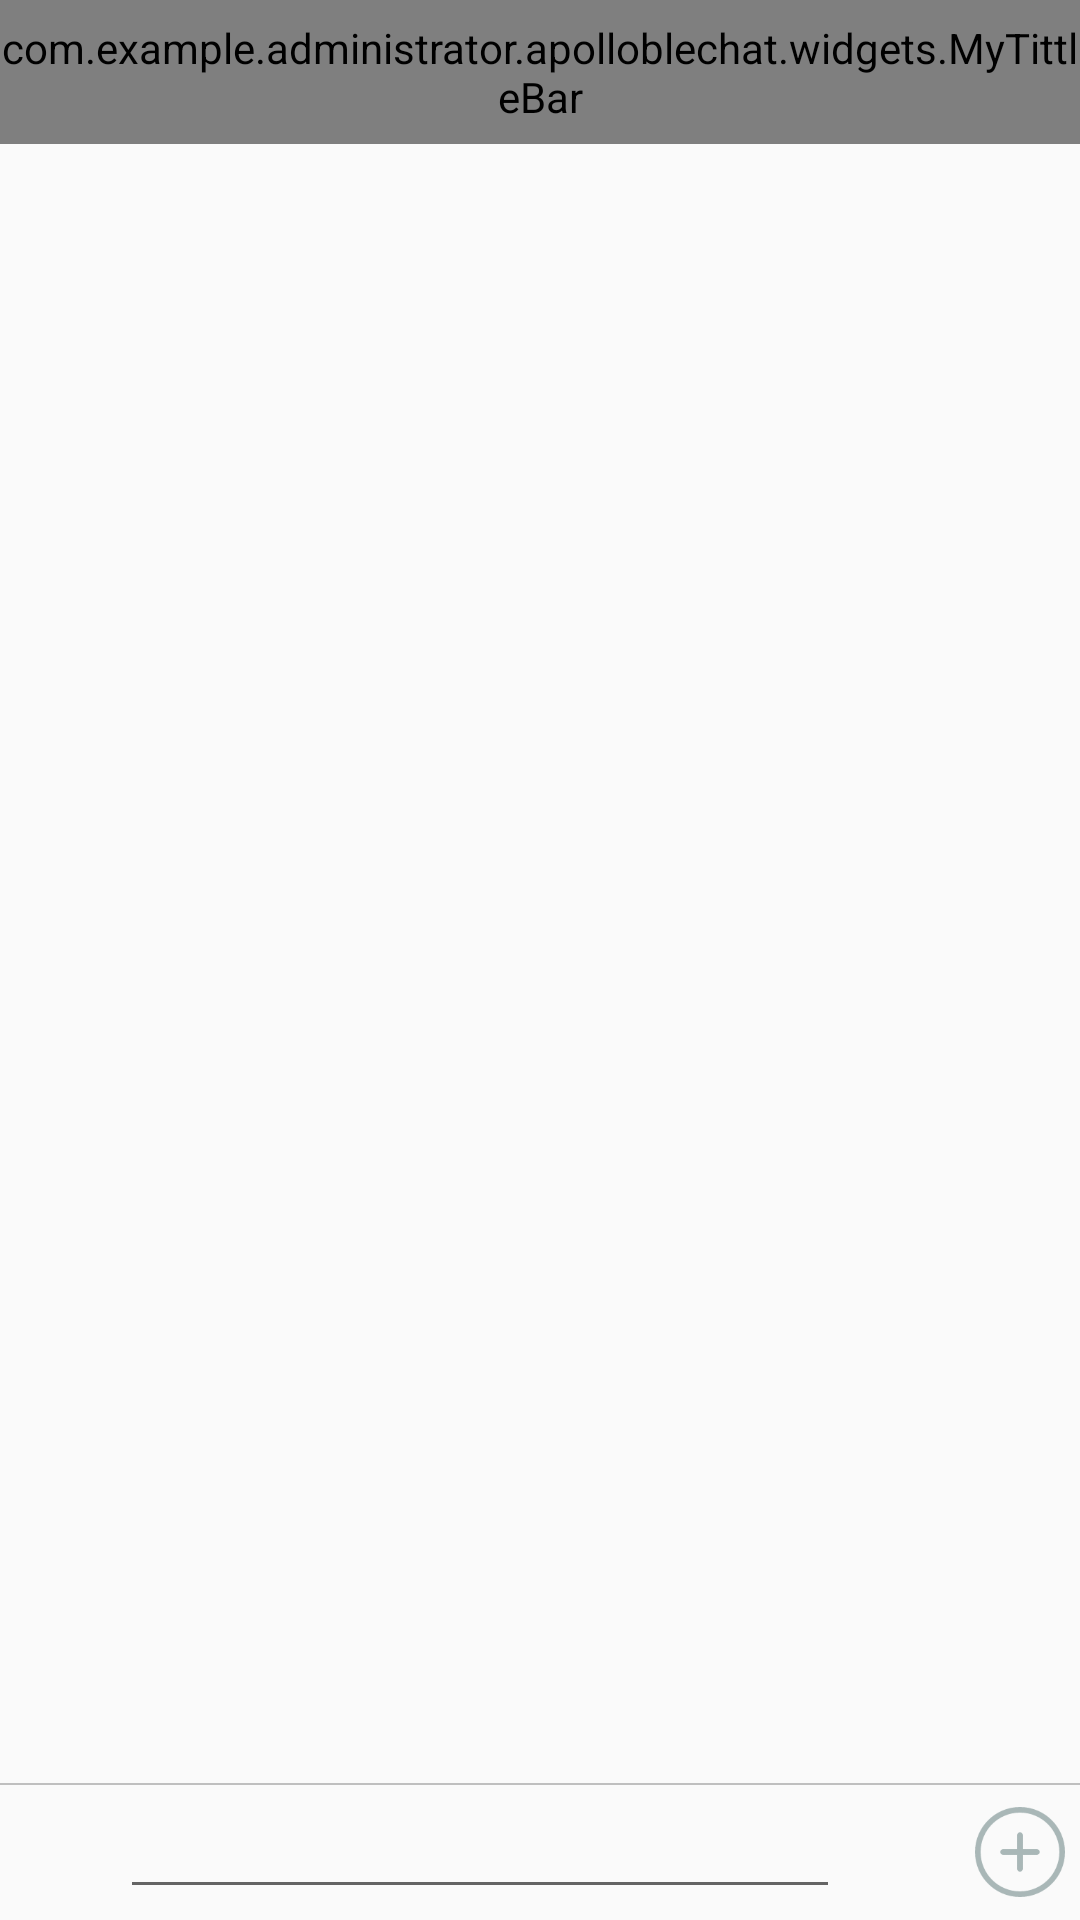

Screen size 1080px×1920px. Icon name, then its center in pixels as point (x, y):
chat add: point (1020, 1852)
